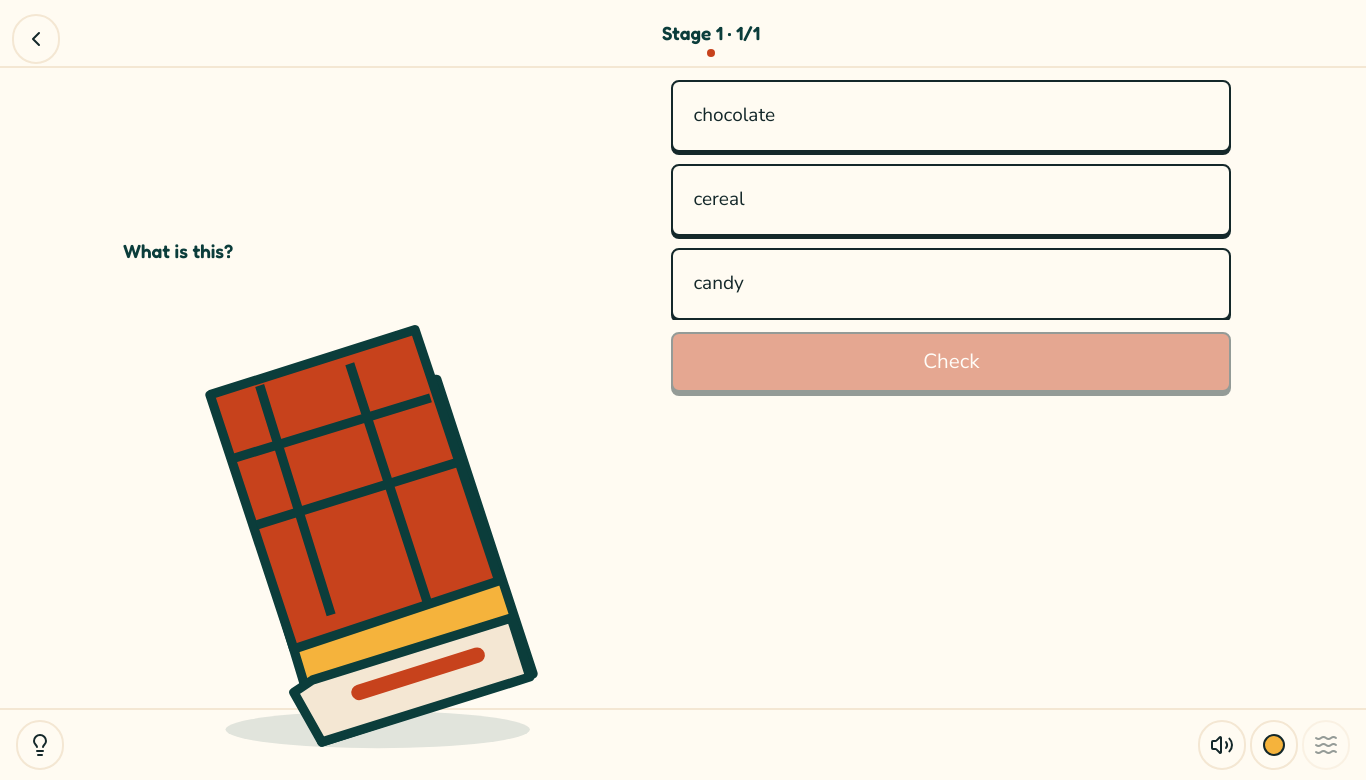
it: answer flow › reduces XP on a correct retry
Click the button "candy": (719, 283) x1=671 y1=248 x2=1231 y2=320
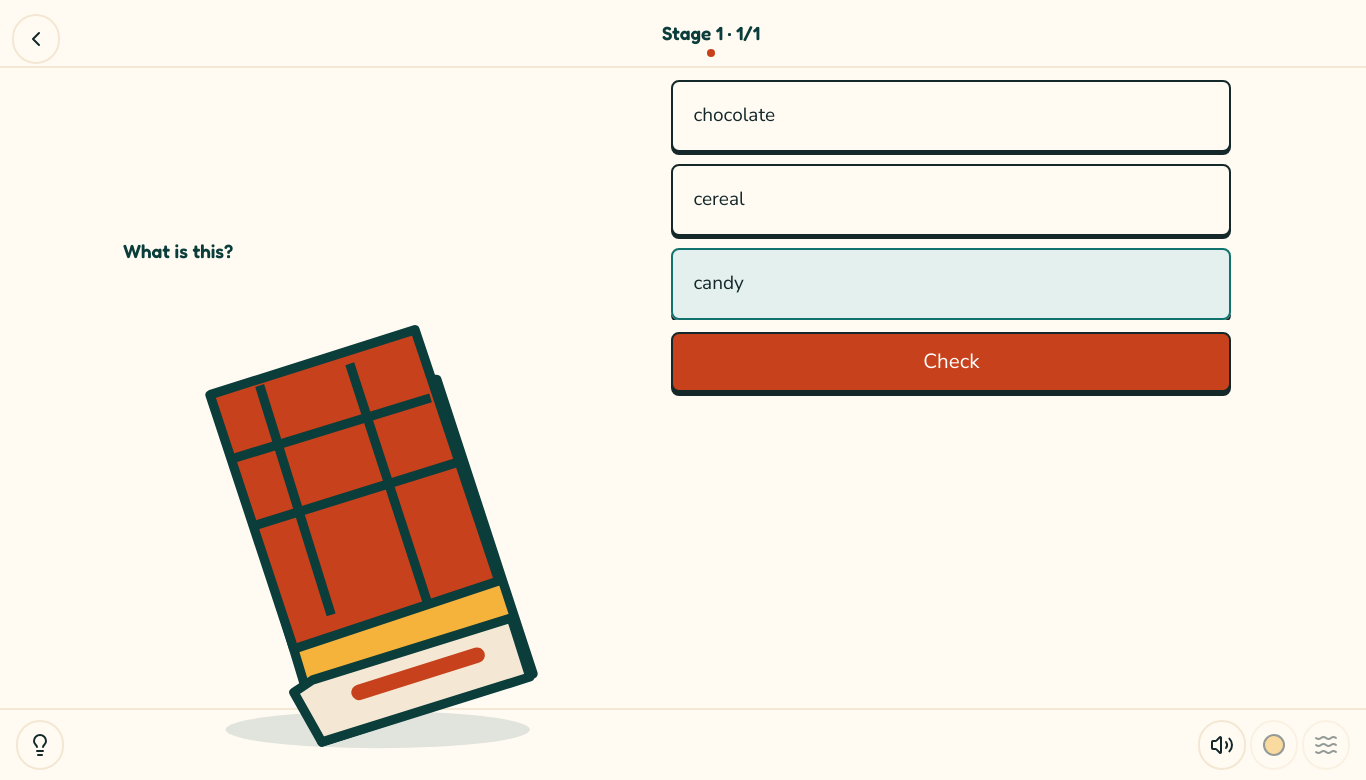
Press Enter
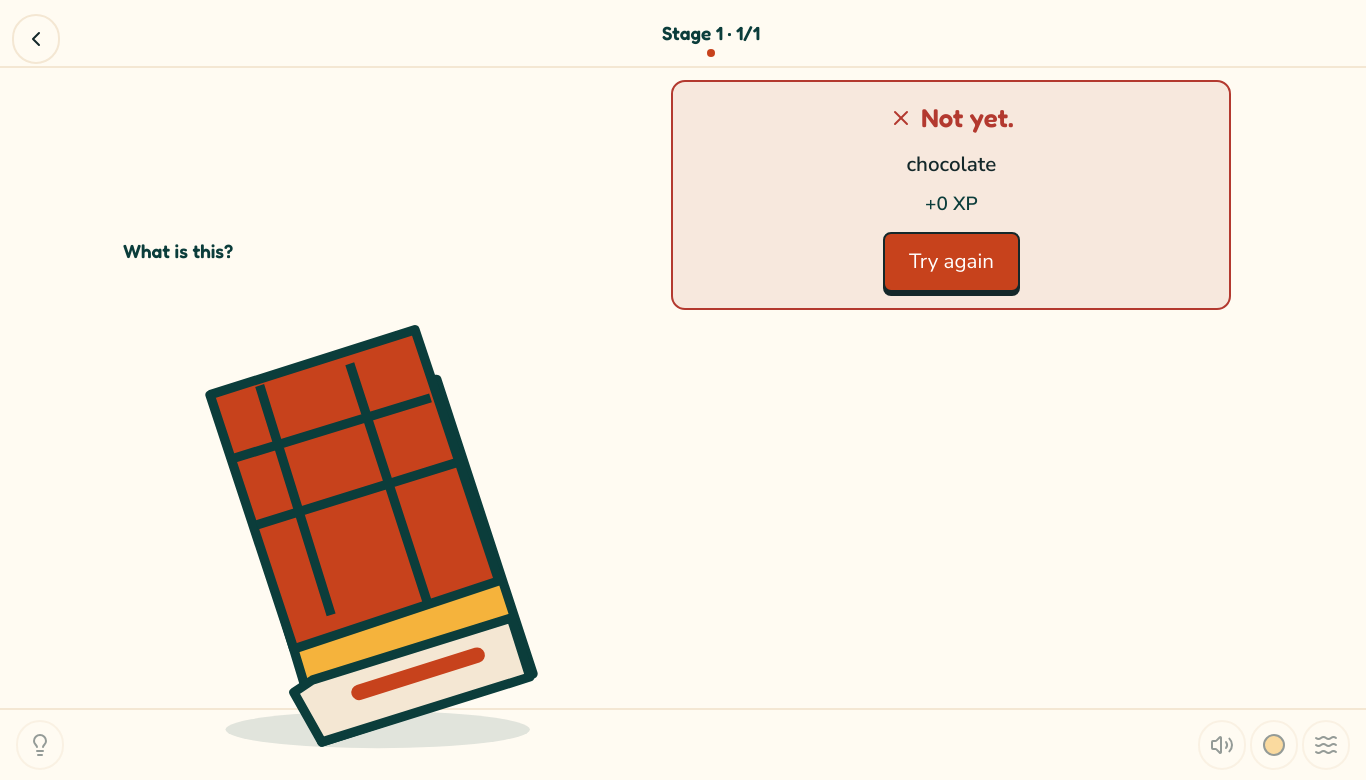
Click the button "Try again": (951, 262) x1=883 y1=232 x2=1020 y2=292
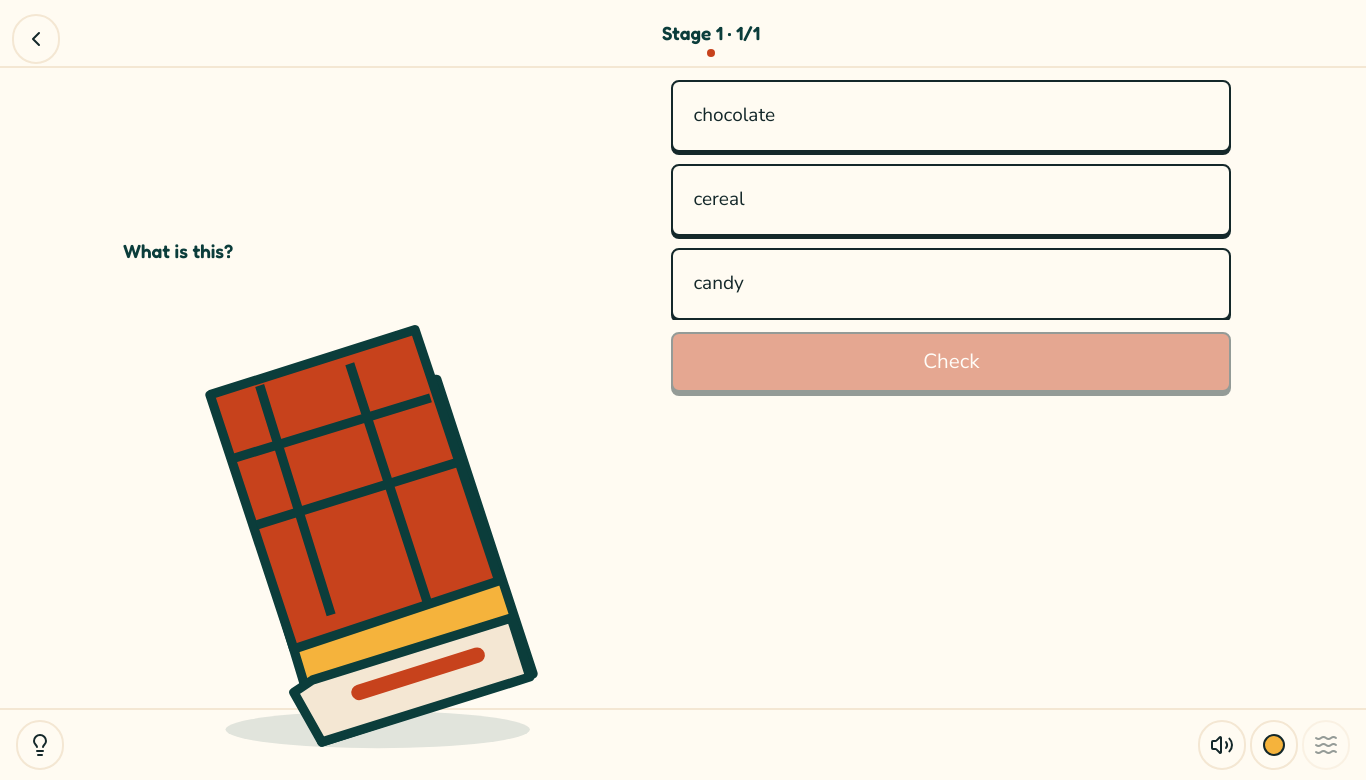
Click the button "chocolate": (734, 115) x1=671 y1=80 x2=1231 y2=152
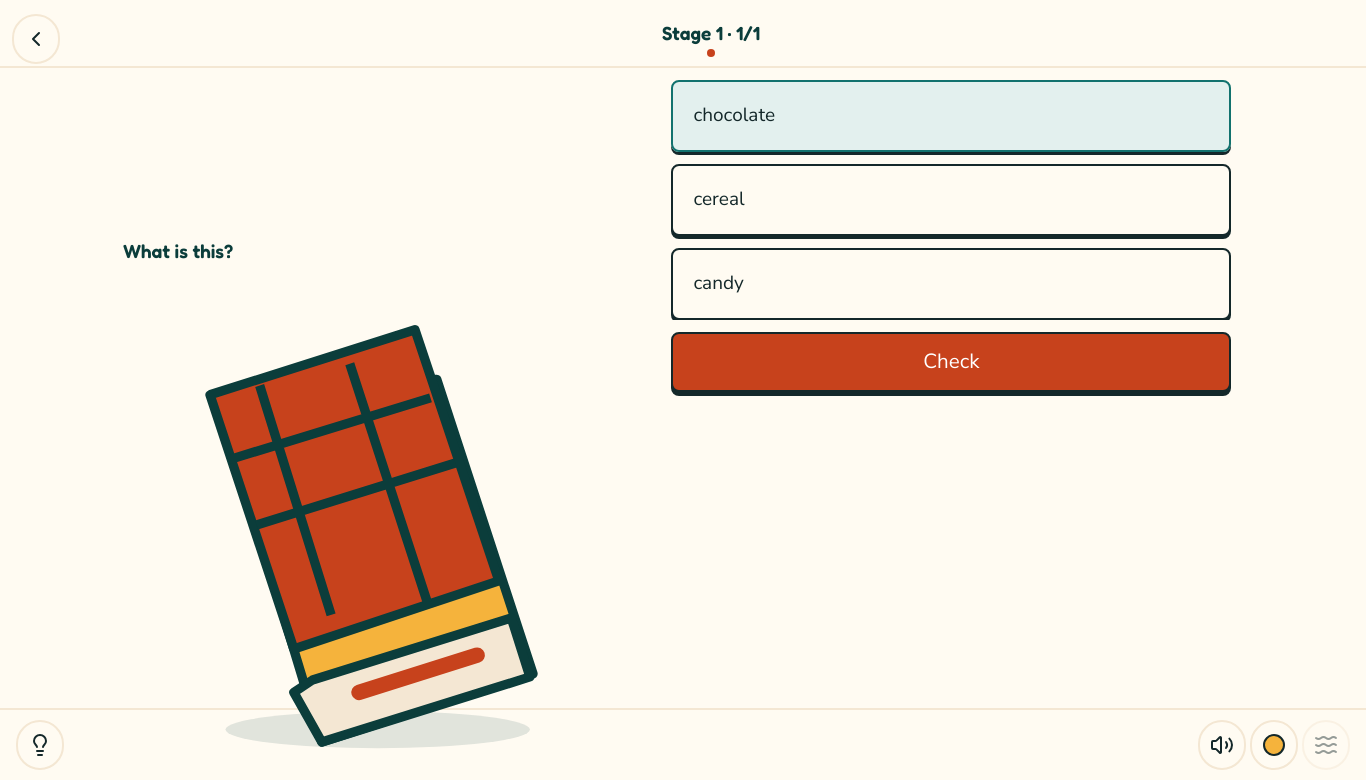
Press Enter
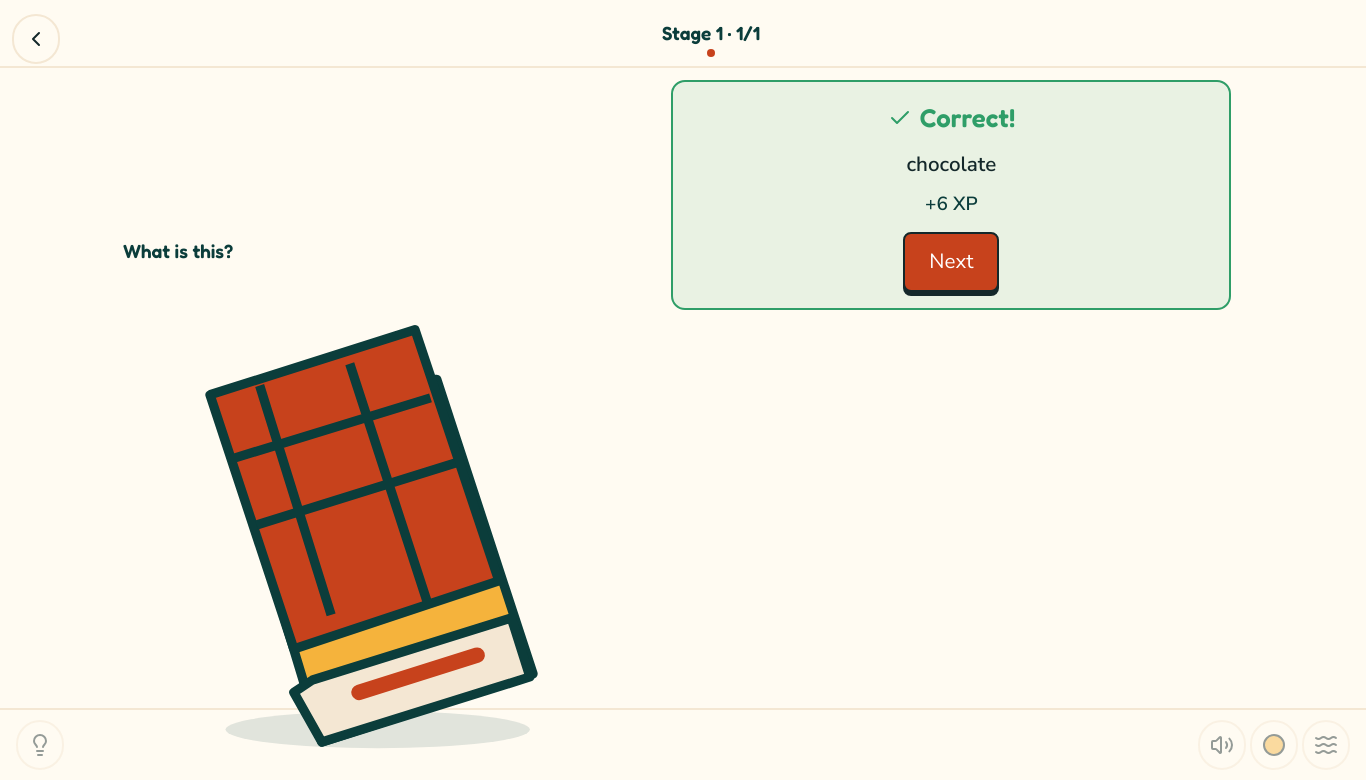
Expected: the text "+6 XP" is shown, x1=925 y1=190 x2=978 y2=220
